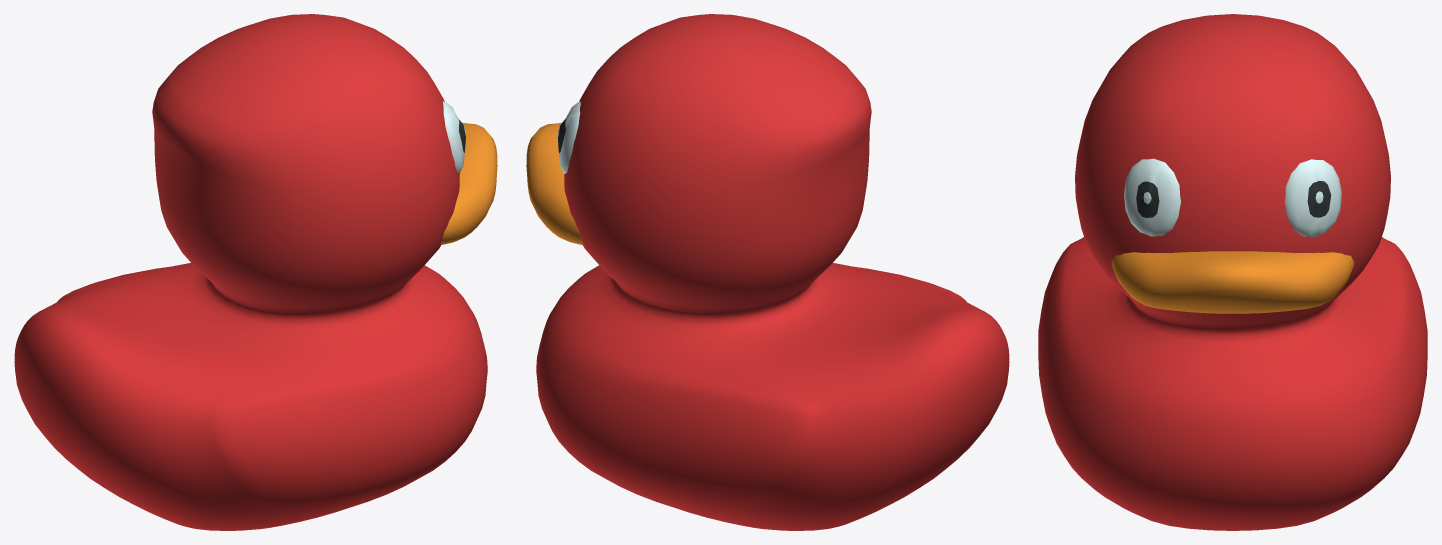
Rendered from Rubber Ducky Red.fbx.
3 views of the same model, side by side, from view 1: azimuth 30°, elevation 25°; view 2: azimuth 150°, elevation 25°; view 3: azimuth 270°, elevation 25° (orthographic). The views are drawn at different scales.
Parts seen in each view (by area): view 1: Rubber_Duck; view 2: Rubber_Duck; view 3: Rubber_Duck.
Part boxes in pixels (left/top/right/bottom): Rubber_Duck: left=14, top=14, right=497, bottom=530; Rubber_Duck: left=526, top=14, right=1009, bottom=530; Rubber_Duck: left=1038, top=14, right=1427, bottom=530.
Size of the model in its own units: 8.53 by 8.27 by 6.1.
Materials: 1 (1 with a texture image).
